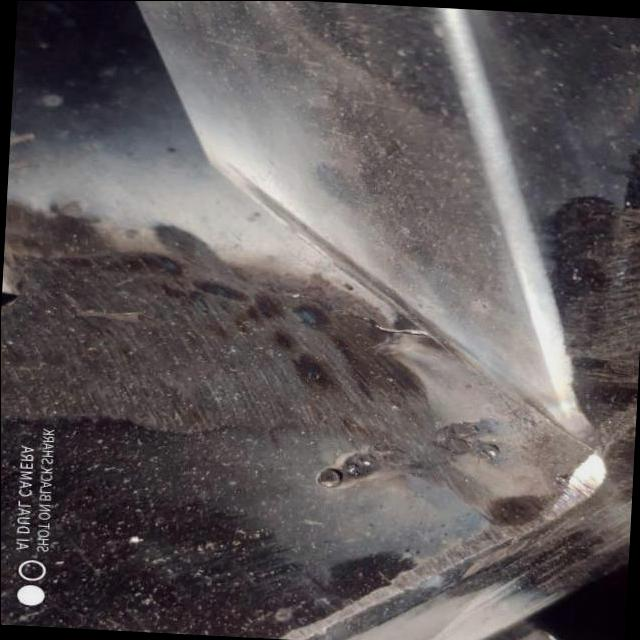defect: (280, 286, 433, 337)
